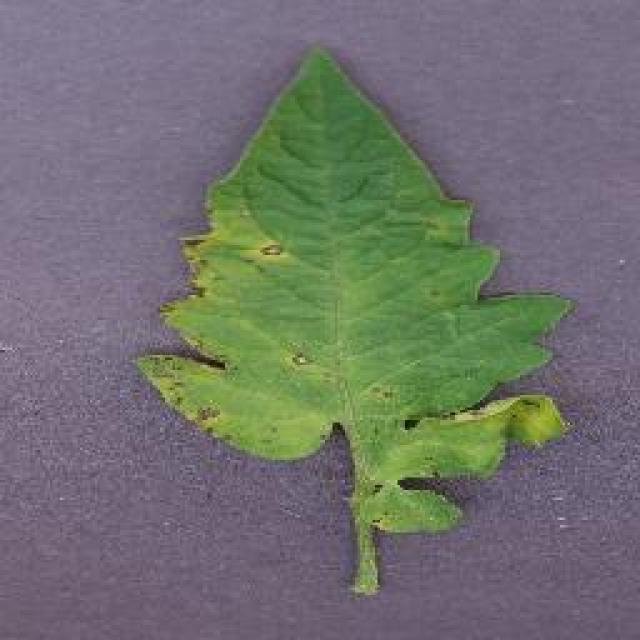Tomato Septoria spot leaf: (128, 50, 576, 537)
